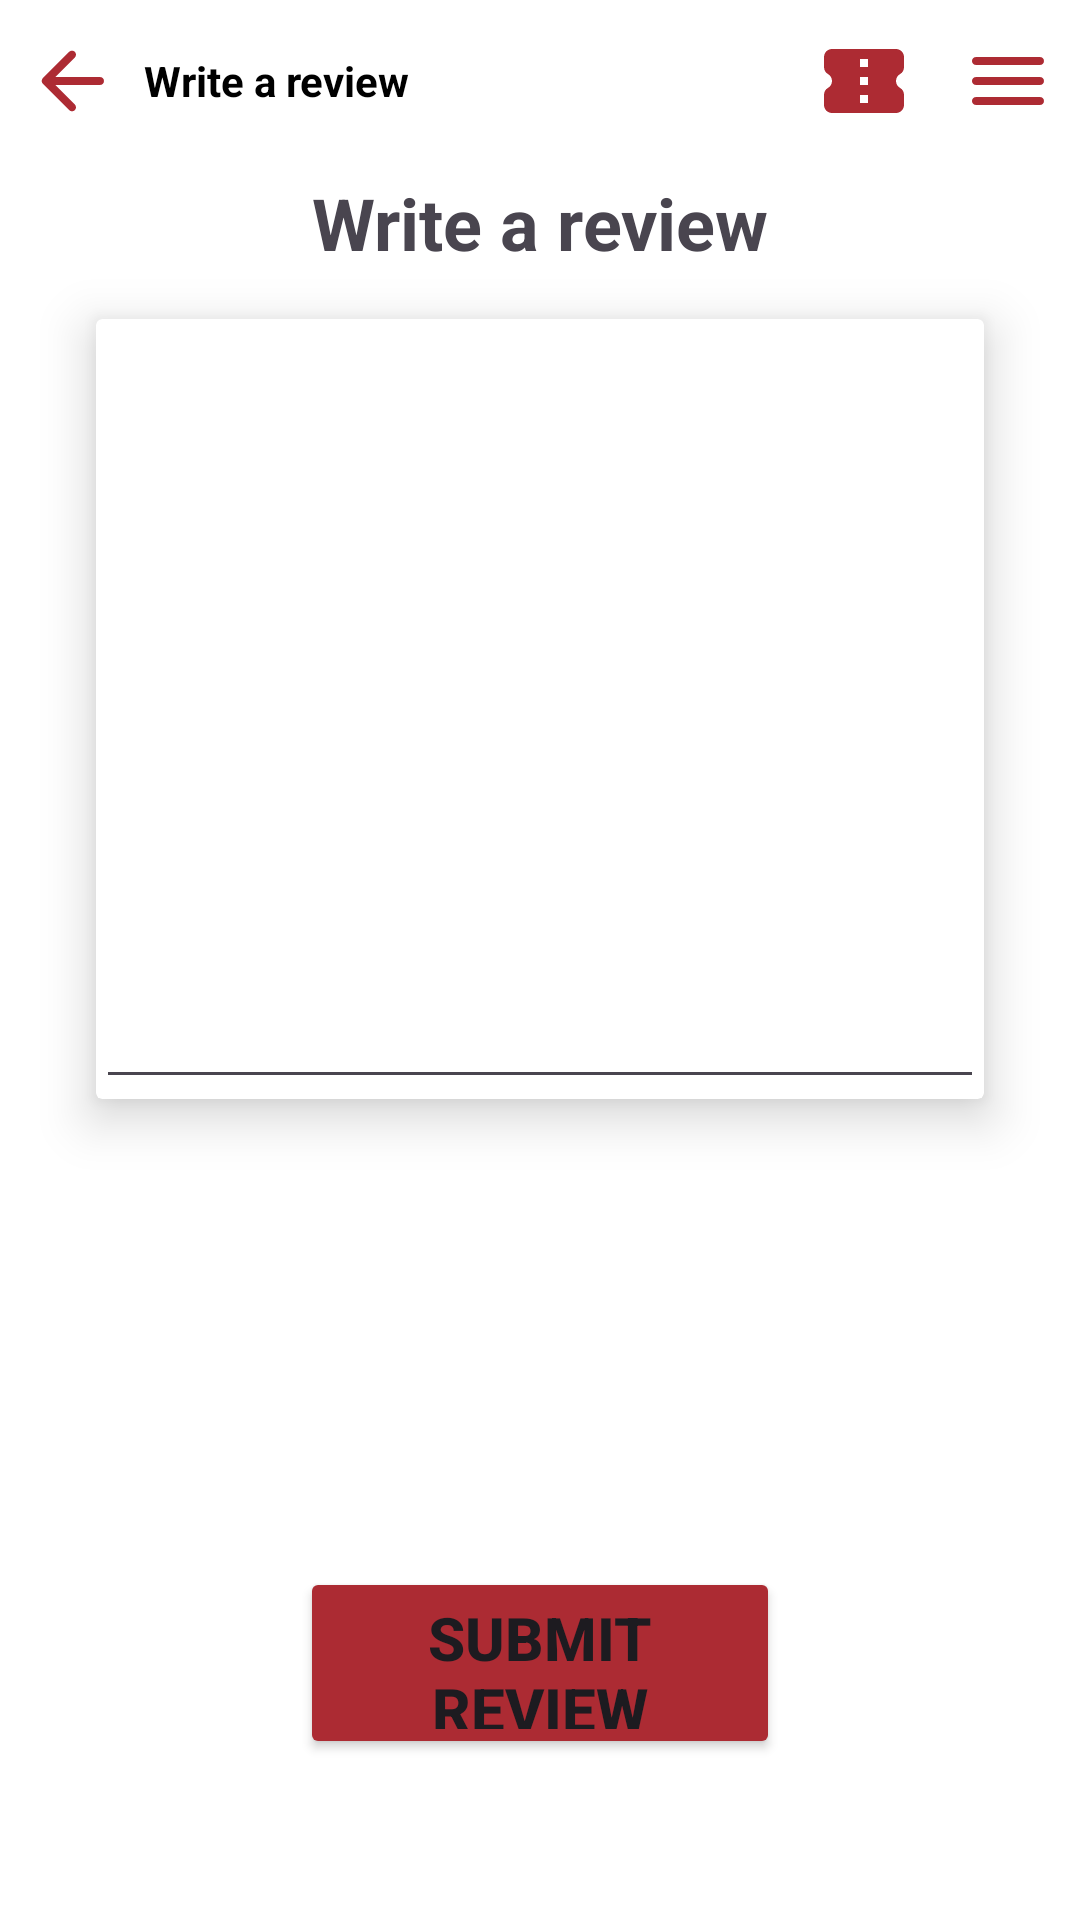

Where to tap for icons on this 1080*1920 app screen, as [x,y]:
back arrow: [72,81]
menu: [1008,81]
ticket: [864,81]
